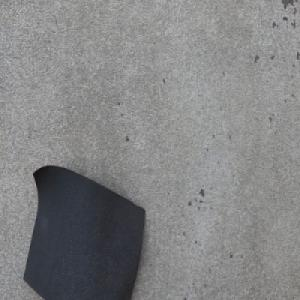PaintChip: (22, 163, 145, 299)
